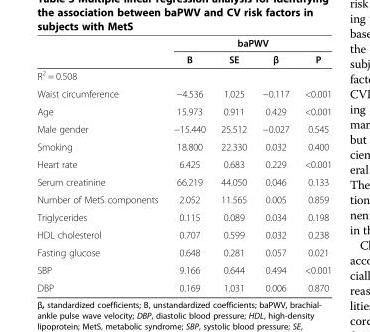table: (36, 36, 331, 293)
table column: (36, 36, 165, 293), (165, 36, 212, 293), (253, 36, 296, 293), (212, 36, 253, 293), (296, 36, 331, 293)
table column header: (36, 36, 331, 66)
table projected row header: (36, 66, 331, 84)
table row: (36, 66, 331, 84), (36, 84, 331, 102), (36, 119, 331, 137), (36, 137, 331, 155), (36, 172, 331, 190), (36, 190, 331, 208), (36, 225, 331, 243), (36, 260, 331, 278), (36, 102, 331, 119), (36, 155, 331, 172), (36, 208, 331, 225), (36, 243, 331, 260), (36, 50, 331, 66), (36, 278, 331, 293), (36, 36, 331, 50)
table spanning cell: (165, 36, 331, 50)
